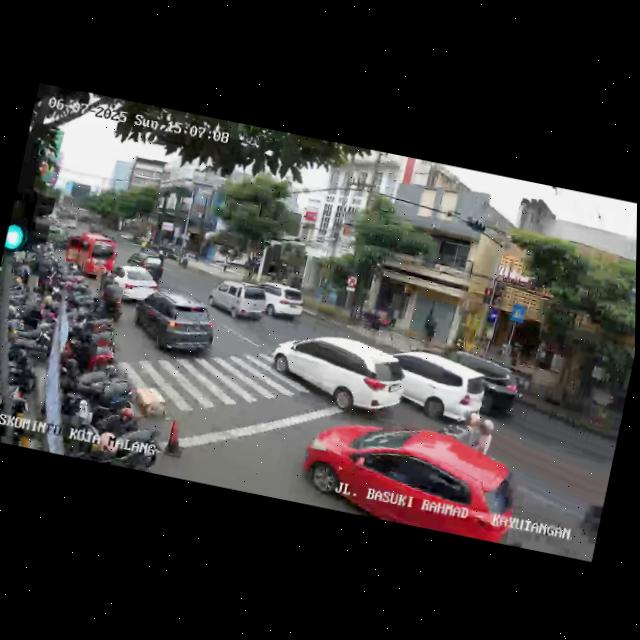car: (293, 406, 530, 545), (262, 324, 412, 427), (385, 344, 499, 434), (128, 287, 224, 365), (204, 275, 272, 329), (60, 227, 118, 281), (104, 260, 163, 309), (253, 280, 309, 322), (124, 245, 169, 284)
motorcycle: (441, 389, 505, 456), (98, 271, 131, 323)
